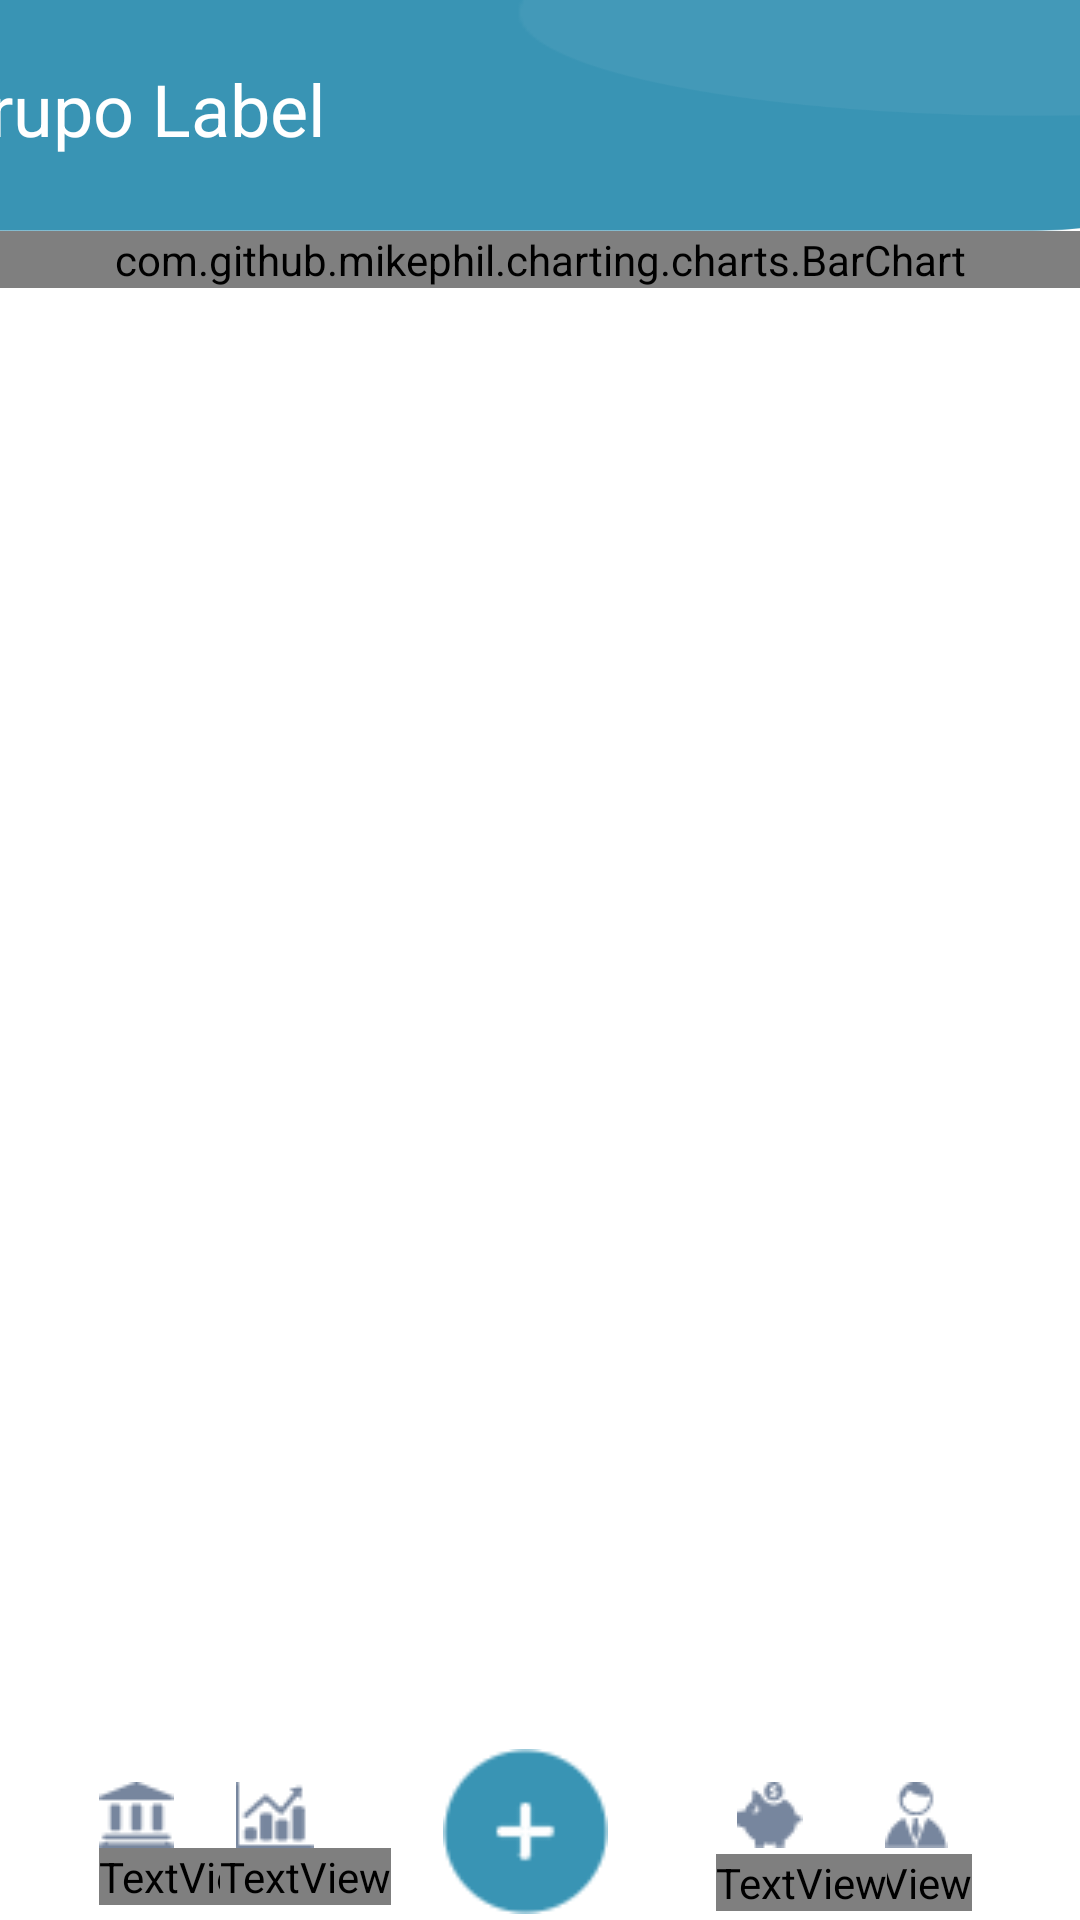

Icon click points for this 1080x1920 phone screenshot, format [x,y]:
banco: [136,1815]
cerdo: [770,1815]
gastos: [274,1814]
perfil: [916,1815]
registro: [525,1831]
